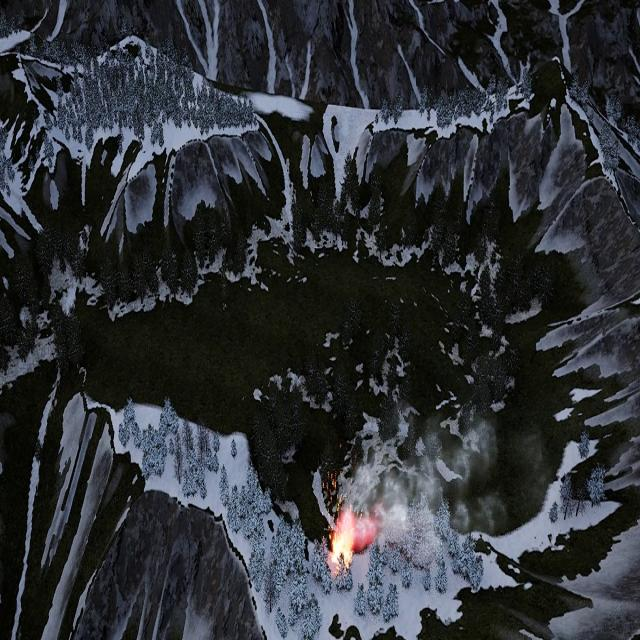fire: (328, 523, 354, 570)
smoke: (339, 421, 504, 547)
